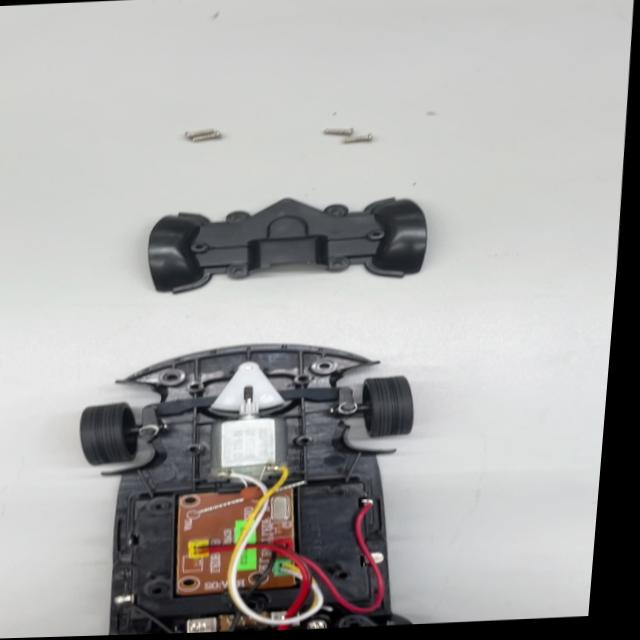Chassis: (97, 335, 432, 636)
motor: (200, 390, 296, 487)
motor_cover: (145, 178, 434, 293)
screw: (171, 117, 232, 155), (314, 118, 358, 140), (333, 131, 379, 152)
wheel: (359, 368, 437, 440), (75, 398, 143, 472)
